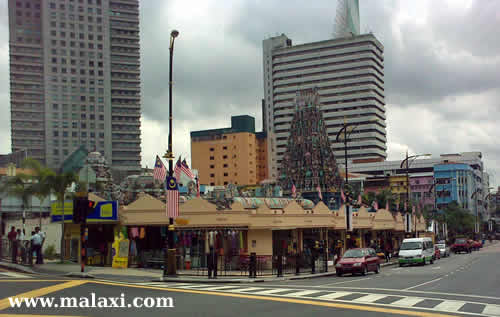Hindu Temple: (270, 95, 341, 188)
